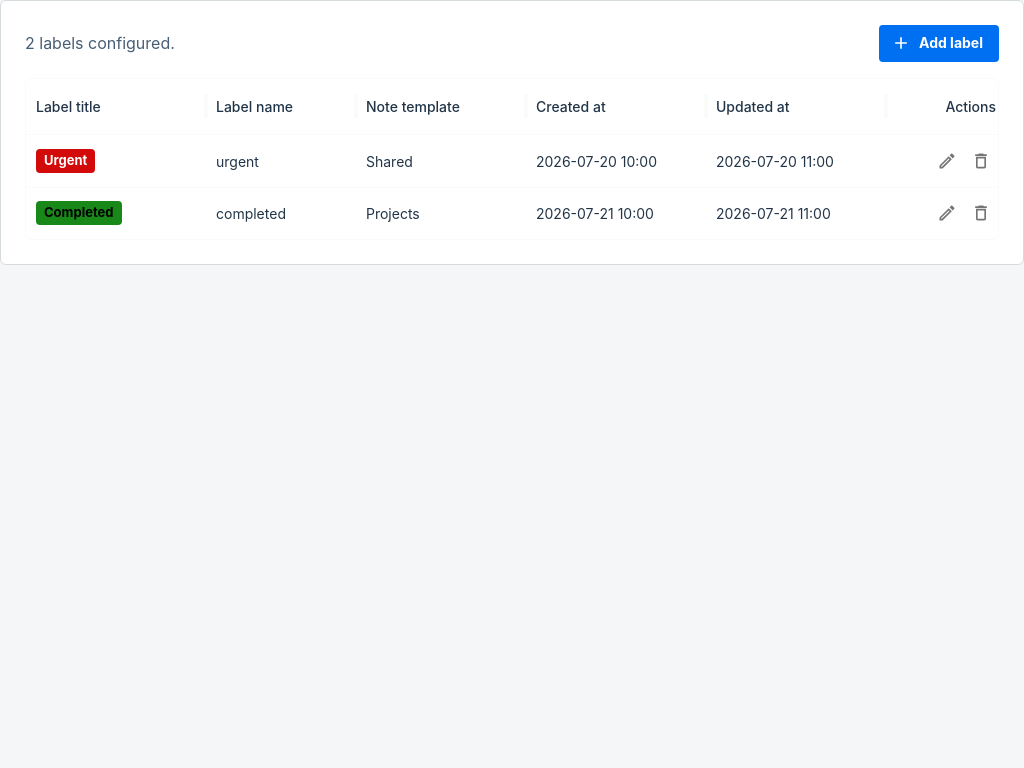
NoteLabelsSection › validates required values before creating a label
This screenshot has width=1024, height=768.
Click the button "Add label" at (939,43), box [879,25,999,62]
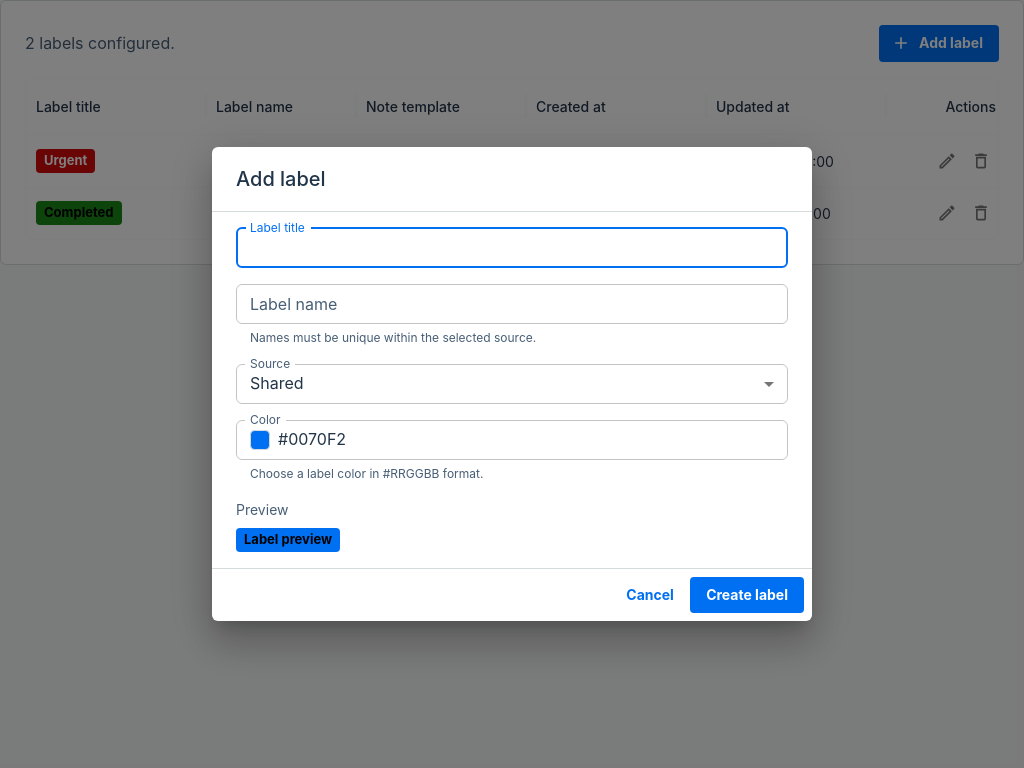
Clear the field labelled "Color" at (533,440), box [278,420,788,460]
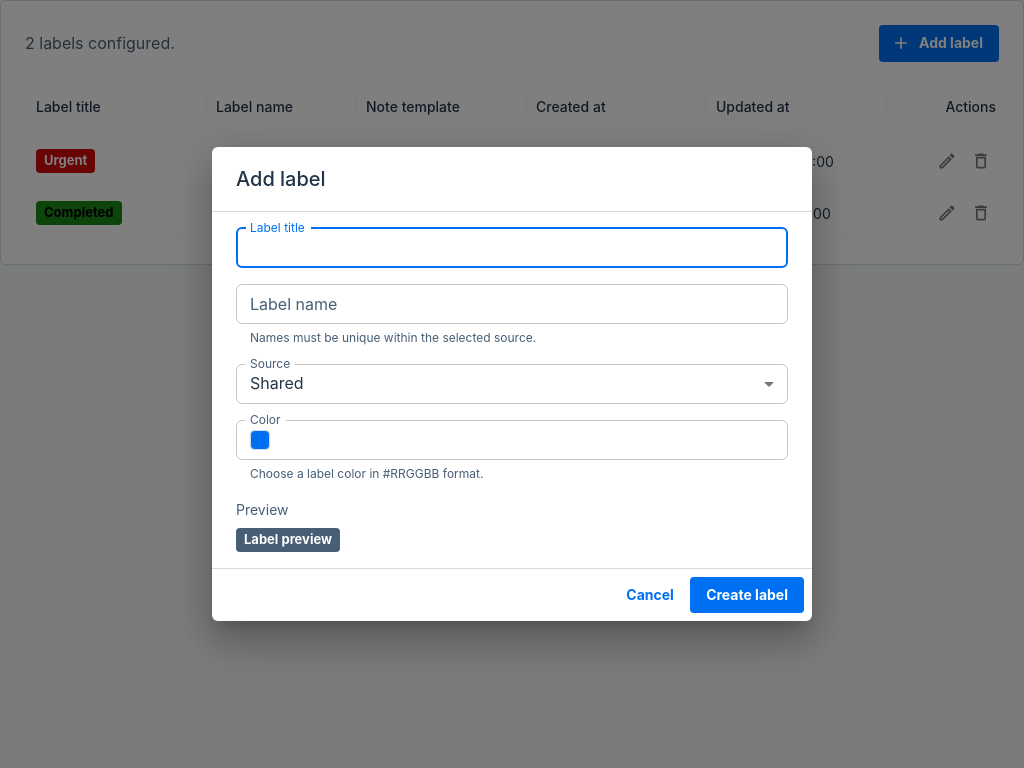
Click the button "Create label" at (747,595), box [690,577,804,613]
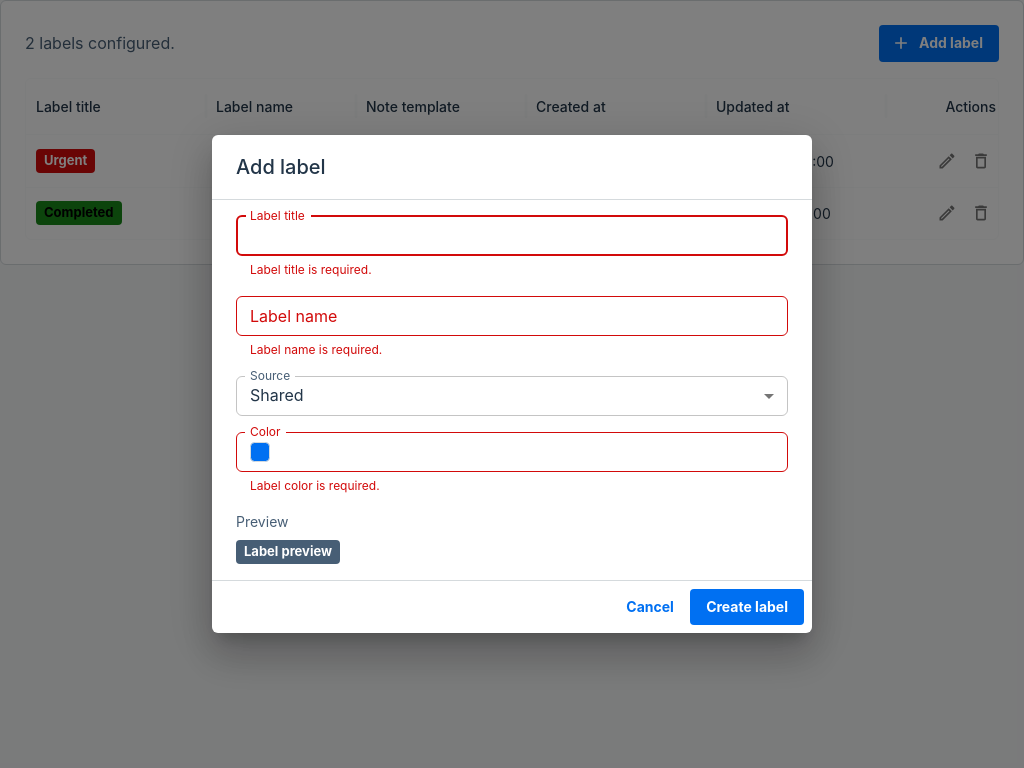
Expected: the text "Label title is required." is shown, [250,262,372,277]
Expected: the text "Label name is required." is shown, [250,342,382,357]
